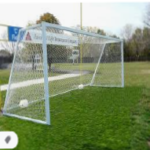goals: (3, 19, 127, 125)
